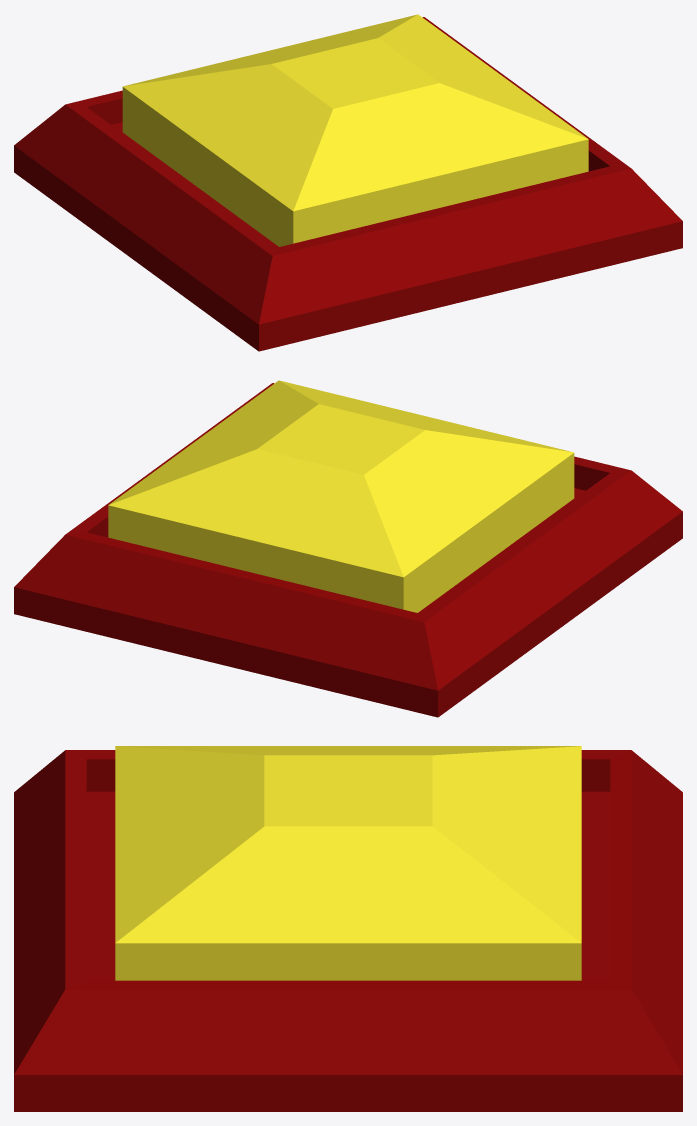
File: button.fbx
3 renders of one model, top to bottom at view 1: azimuth 30°, elevation 25°; view 2: azimuth 150°, elevation 25°; view 3: azimuth 270°, elevation 25°, orthographic. The views are drawn at different scales.
Parts seen in each view (by area): view 1: Cube.011, Cube.012; view 2: Cube.011, Cube.012; view 3: Cube.011, Cube.012.
Boxes of the visible parts, x1,y1,x2,y2 form: Cube.011: [14, 17, 682, 351]; Cube.012: [122, 14, 588, 246]; Cube.011: [14, 383, 682, 717]; Cube.012: [108, 380, 574, 612]; Cube.011: [14, 750, 682, 1111]; Cube.012: [115, 746, 581, 980].
Bounding box in the file's own units: 212 × 64.51 × 212.
